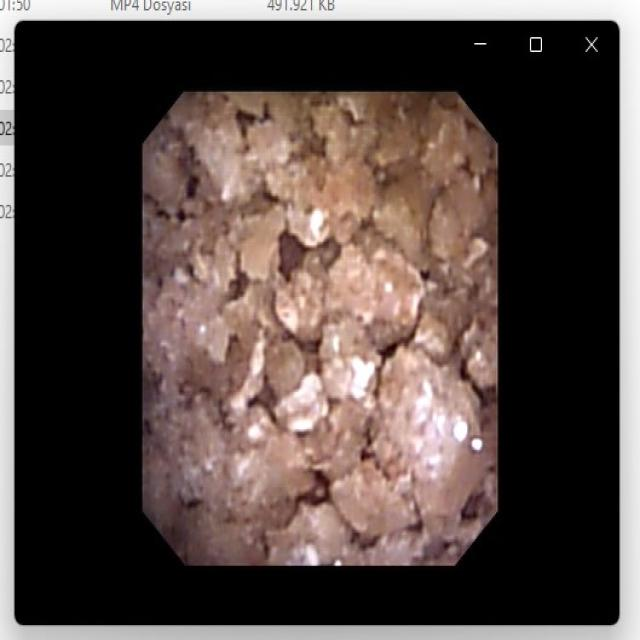stone: (150, 98, 492, 558)
